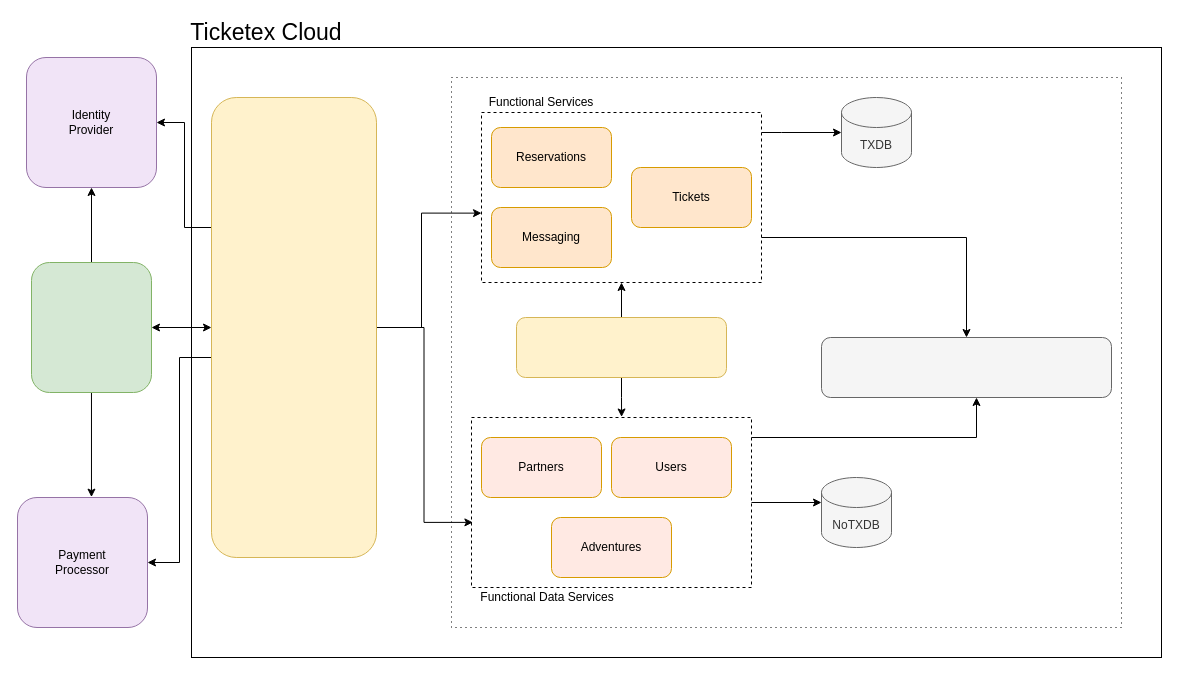
Some shapes in this 1179 by 675 pixel diagram are drawn without their labels. The shapes that lost their labels are listed below. From the top down, each one's centre as x and y in pixels, then its label:
At point (91, 327): "App".
At point (293, 327): "Ticketex API".
At point (621, 347): "Ticketex Batch".
At point (966, 367): "Broker".
